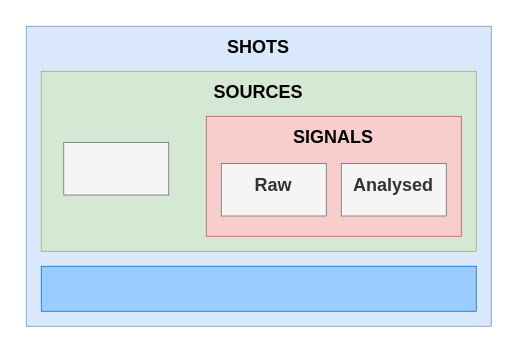
This 518x353 diagram has some shape labels left out. Here are the shapes that lost their labels. From the top down, the centre of each, then its label:
point (115, 168): Image
point (258, 288): CPF
